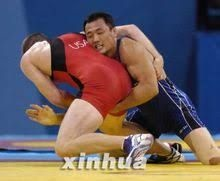falling: (12, 12, 205, 167)
